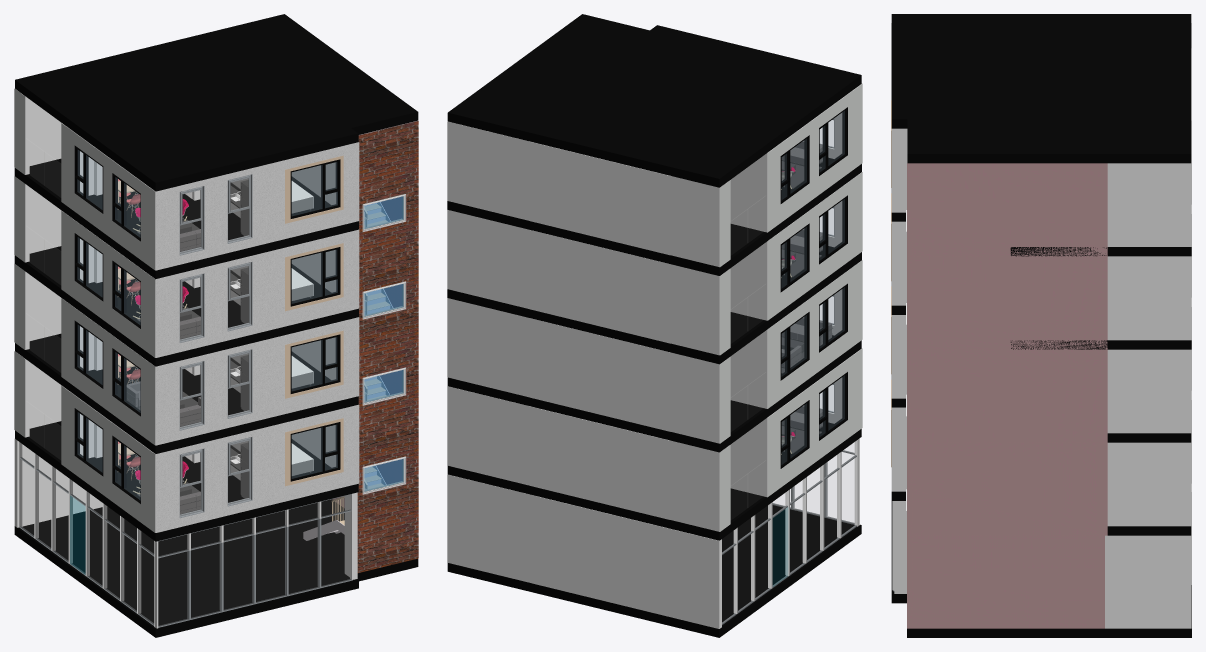
3 renders of one model, left to right at view 1: azimuth 30°, elevation 25°; view 2: azimuth 150°, elevation 25°; view 3: azimuth 270°, elevation 25°, orthographic. The views are drawn at different scales.
Parts seen in each view (by area): view 1: FamilyInstance Casework 12_Casework_Counter Top_EDR1 <632173, Plane.001, Plane.005, Plane, FamilyInstance Doors MAHG_Suite Door_Ext_Double_Sliding <632; view 2: FamilyInstance Casework 12_Casework_Counter Top_EDR1 <632173, Plane.005, FamilyInstance Doors MAHG_Suite Door_Ext_Double_Sliding <632; view 3: FamilyInstance Casework 12_Casework_Counter Top_EDR1 <632173.
Boxes of the visible parts, left/top/right/bottom form: FamilyInstance Casework 12_Casework_Counter Top_EDR1 <632173: left=14, top=14, right=418, bottom=637; Plane.001: left=155, top=142, right=359, bottom=532; Plane.005: left=14, top=89, right=155, bottom=532; Plane: left=357, top=121, right=418, bottom=572; FamilyInstance Doors MAHG_Suite Door_Ext_Double_Sliding <632: left=44, top=150, right=403, bottom=574; FamilyInstance Casework 12_Casework_Counter Top_EDR1 <632173: left=447, top=14, right=861, bottom=637; Plane.005: left=720, top=84, right=862, bottom=531; FamilyInstance Doors MAHG_Suite Door_Ext_Double_Sliding <632: left=747, top=111, right=854, bottom=586; FamilyInstance Casework 12_Casework_Counter Top_EDR1 <632173: left=891, top=14, right=1191, bottom=637.
Size of the model in its own units: 32.34 by 52 by 29.28.
6 materials, 6 textured.
